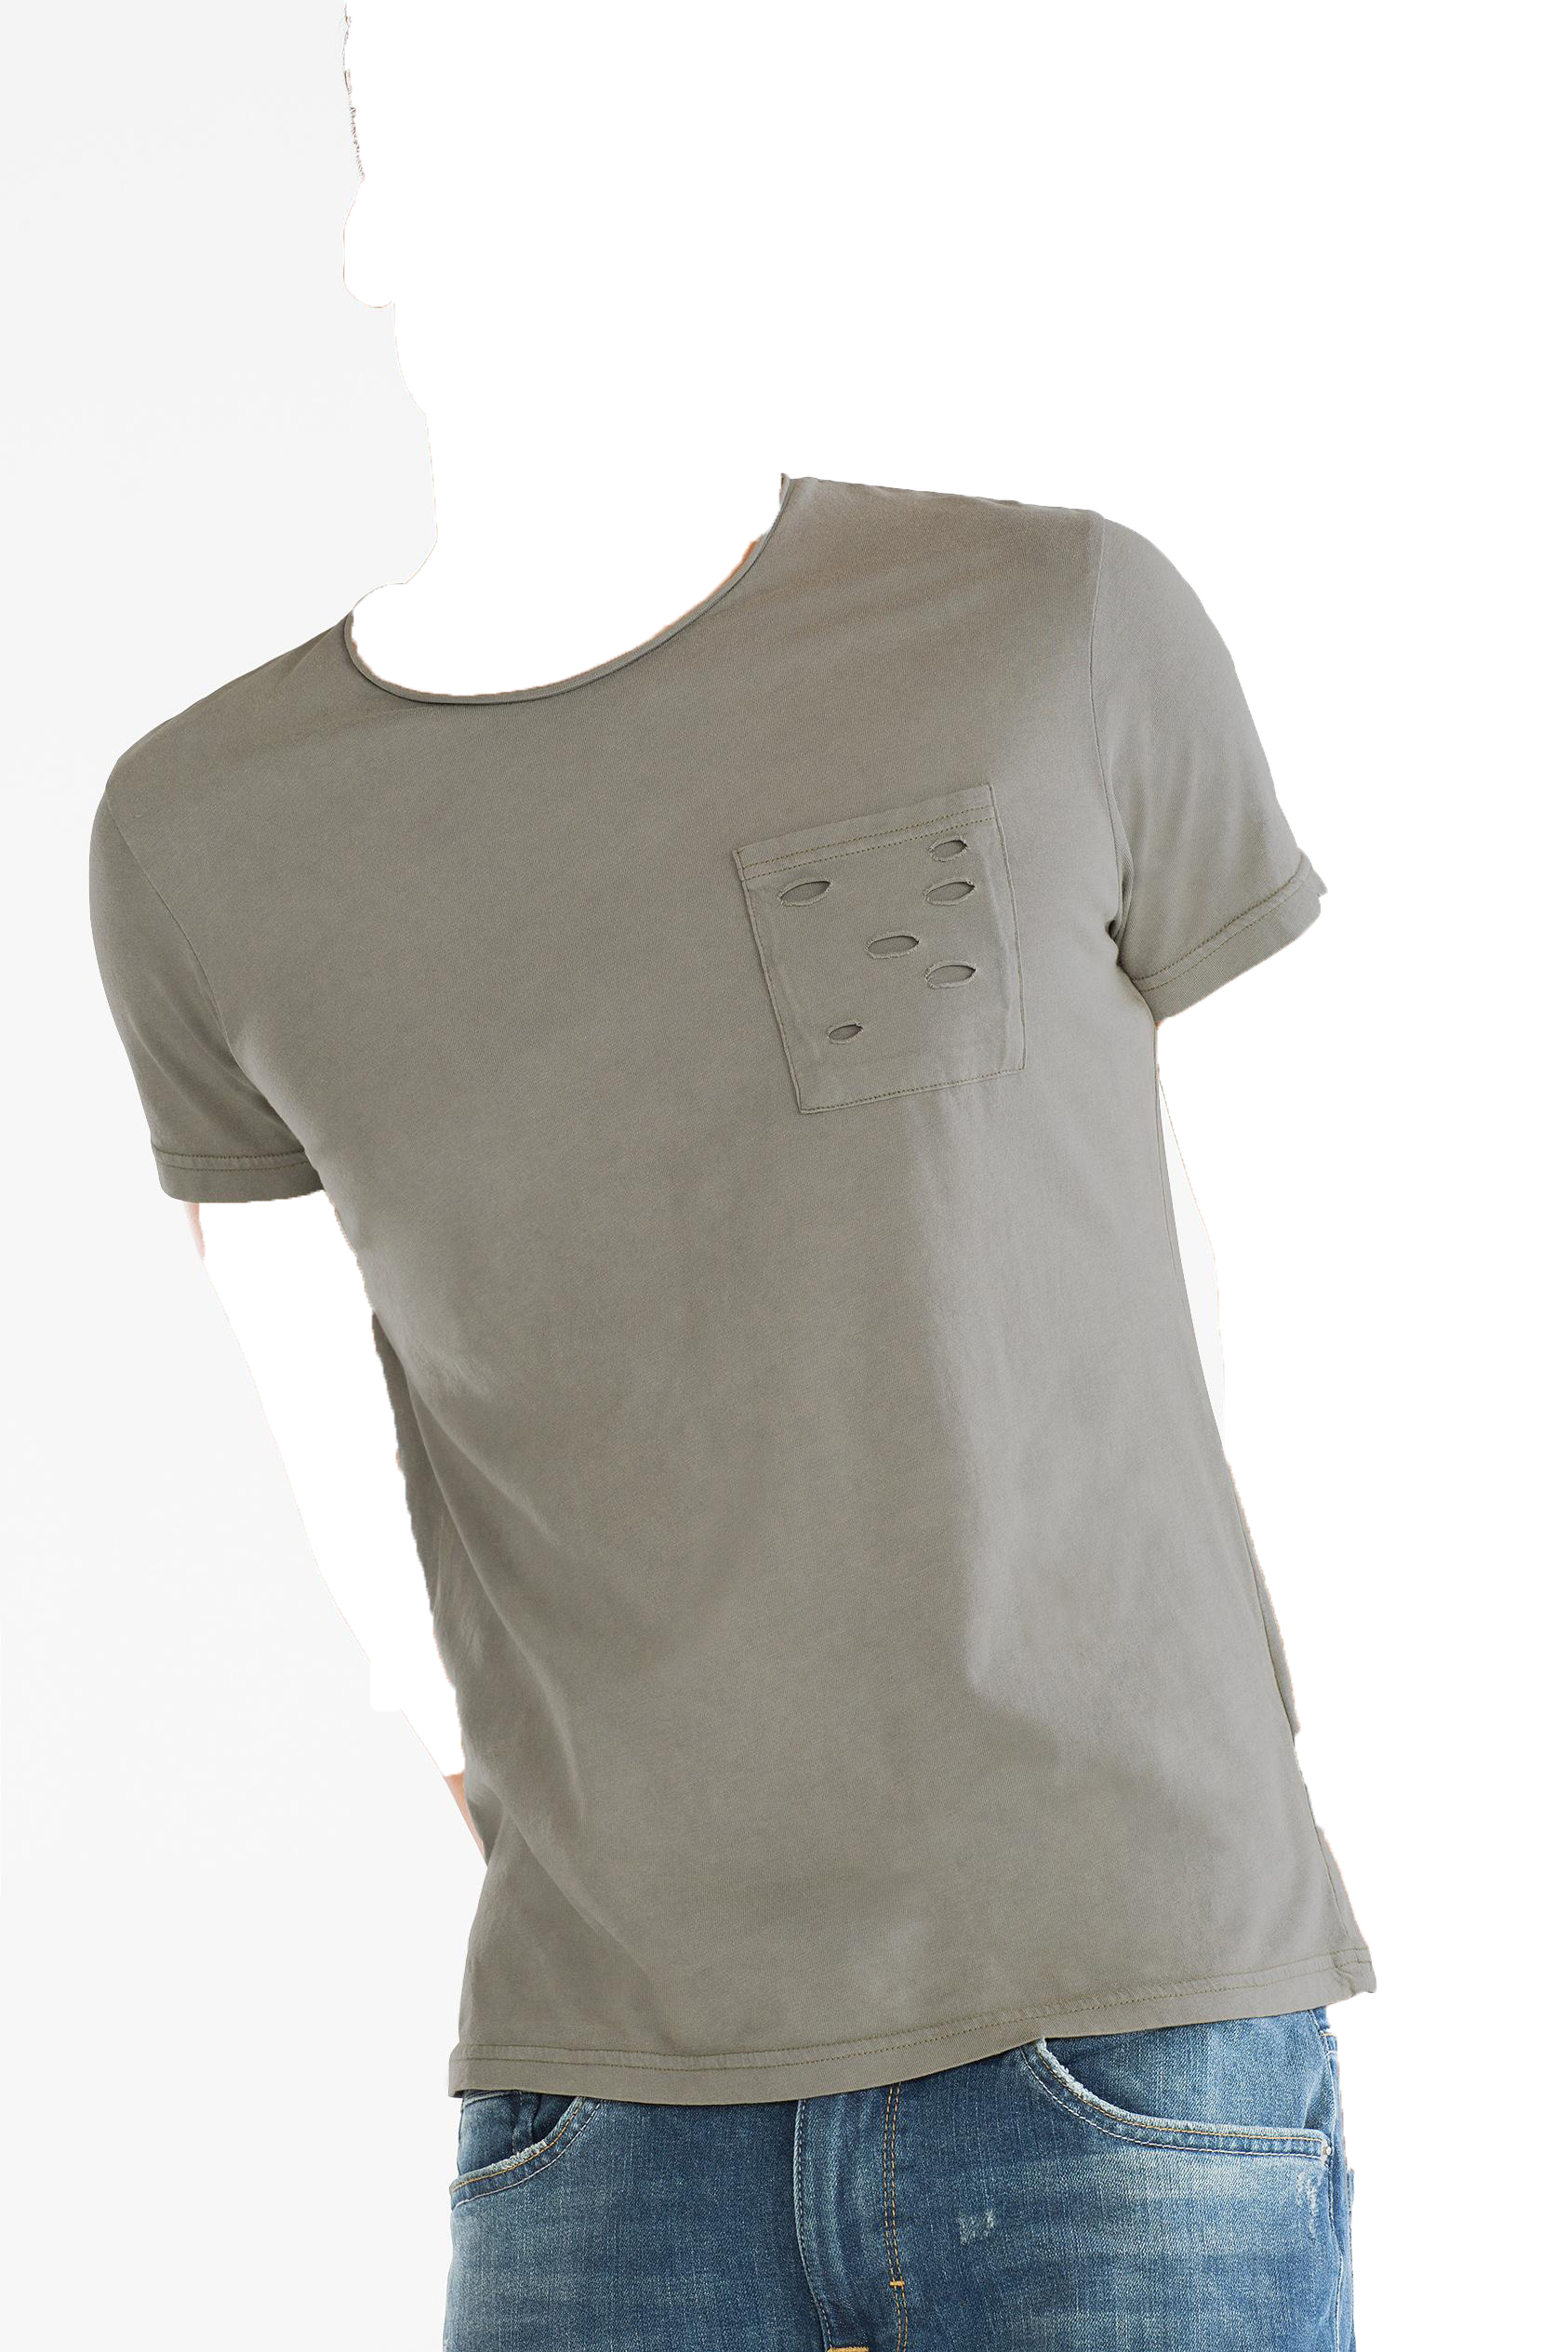teeshirt: (70, 467, 1430, 2112)
